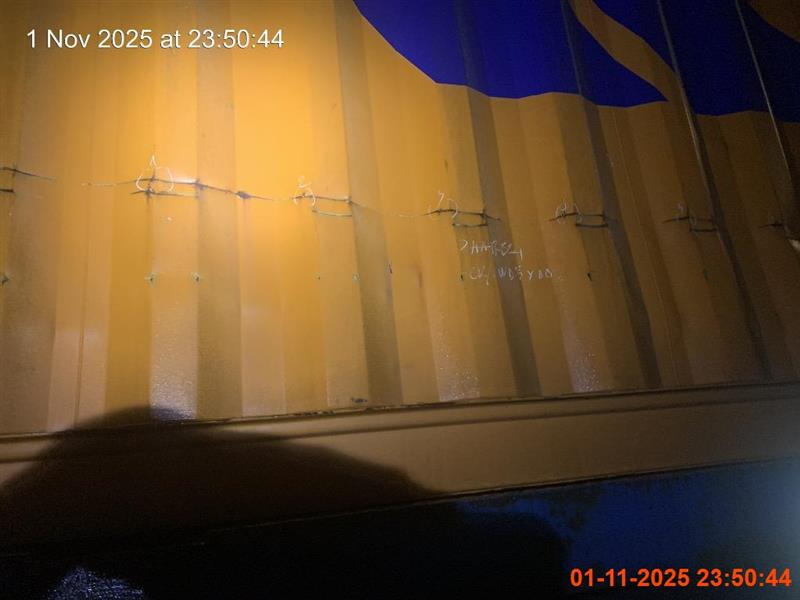crack: (0, 405, 573, 599)
